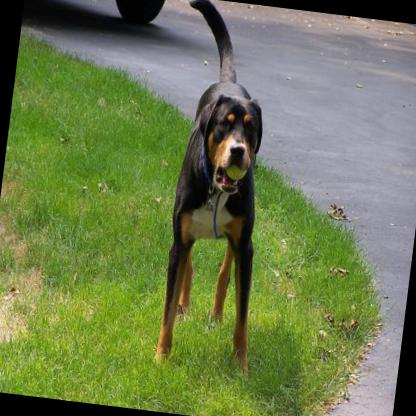Greater_Swiss_Mountain_dog: (142, 0, 292, 380)
